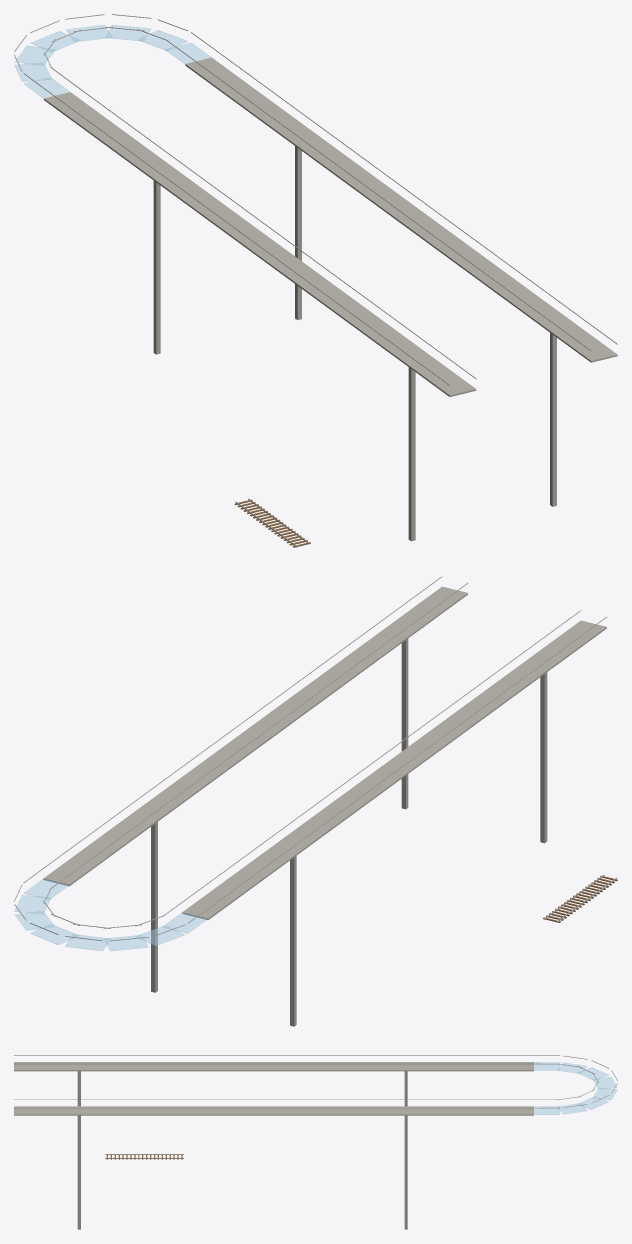
File: CoastalRailDaritdol_blockout.glb
The picture shows the model from 3 angles, top to bottom: view 1: azimuth 30°, elevation 25°; view 2: azimuth 150°, elevation 25°; view 3: azimuth 270°, elevation 25°; orthographic projection. The views are drawn at different scales.
Parts seen in each view (by area): view 1: ENV14_CoastalRailDaritdol_WalkPier0_L0, ENV14_CoastalRailDaritdol_WalkPier2_L0, ENV14_CoastalRailDaritdol_WalkPier1_L0, ENV14_CoastalRailDaritdol_WalkPier3_L0; view 2: ENV14_CoastalRailDaritdol_WalkPier0_L0, ENV14_CoastalRailDaritdol_WalkPier2_L0, ENV14_CoastalRailDaritdol_WalkPier3_L0, ENV14_CoastalRailDaritdol_WalkPier1_L0, ENV14_CoastalRailDaritdol_WalkGlass28_L0; view 3: ENV14_CoastalRailDaritdol_WalkPier1_L0, ENV14_CoastalRailDaritdol_WalkPier3_L0, ENV14_CoastalRailDaritdol_WalkGlass0_L0, ENV14_CoastalRailDaritdol_WalkGlass10_L0, ENV14_CoastalRailDaritdol_WalkGlass11_L0, ENV14_CoastalRailDaritdol_WalkGlass12_L0, ENV14_CoastalRailDaritdol_WalkGlass13_L0, ENV14_CoastalRailDaritdol_WalkGlass14_L0, ENV14_CoastalRailDaritdol_WalkGlass15_L0, ENV14_CoastalRailDaritdol_WalkGlass16_L0, ENV14_CoastalRailDaritdol_WalkGlass17_L0, ENV14_CoastalRailDaritdol_WalkGlass18_L0 (+30 smaller).
Boxes of the visible parts, box(x1,y1,x2,y2) form: ENV14_CoastalRailDaritdol_WalkPier0_L0: box(408, 367, 415, 541); ENV14_CoastalRailDaritdol_WalkPier2_L0: box(153, 181, 160, 354); ENV14_CoastalRailDaritdol_WalkPier1_L0: box(550, 333, 556, 506); ENV14_CoastalRailDaritdol_WalkPier3_L0: box(295, 146, 301, 319); ENV14_CoastalRailDaritdol_WalkPier0_L0: box(540, 672, 547, 843); ENV14_CoastalRailDaritdol_WalkPier2_L0: box(290, 856, 296, 1026); ENV14_CoastalRailDaritdol_WalkPier3_L0: box(151, 822, 157, 992); ENV14_CoastalRailDaritdol_WalkPier1_L0: box(401, 638, 408, 809); ENV14_CoastalRailDaritdol_WalkGlass28_L0: box(43, 864, 89, 886); ENV14_CoastalRailDaritdol_WalkPier1_L0: box(77, 1115, 80, 1229); ENV14_CoastalRailDaritdol_WalkPier3_L0: box(404, 1115, 407, 1229); ENV14_CoastalRailDaritdol_WalkGlass0_L0: box(14, 1062, 39, 1071); ENV14_CoastalRailDaritdol_WalkGlass10_L0: box(274, 1062, 299, 1071); ENV14_CoastalRailDaritdol_WalkGlass11_L0: box(300, 1062, 325, 1071); ENV14_CoastalRailDaritdol_WalkGlass12_L0: box(326, 1062, 351, 1071); ENV14_CoastalRailDaritdol_WalkGlass13_L0: box(352, 1062, 377, 1071); ENV14_CoastalRailDaritdol_WalkGlass14_L0: box(378, 1062, 403, 1071); ENV14_CoastalRailDaritdol_WalkGlass15_L0: box(404, 1062, 429, 1071); ENV14_CoastalRailDaritdol_WalkGlass16_L0: box(430, 1062, 455, 1071); ENV14_CoastalRailDaritdol_WalkGlass17_L0: box(456, 1062, 481, 1071); ENV14_CoastalRailDaritdol_WalkGlass18_L0: box(482, 1062, 507, 1071).
Bounding box in the file's own units: 28.5 × 21.13 × 92.42.
